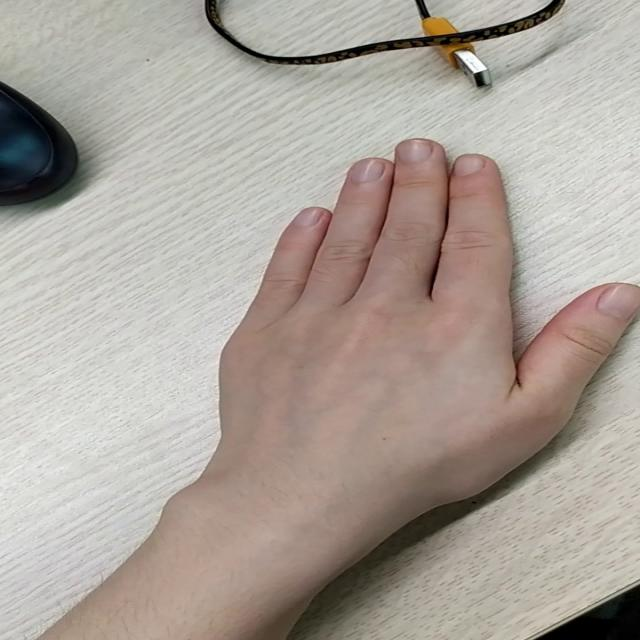hand: (259, 150, 631, 506)
